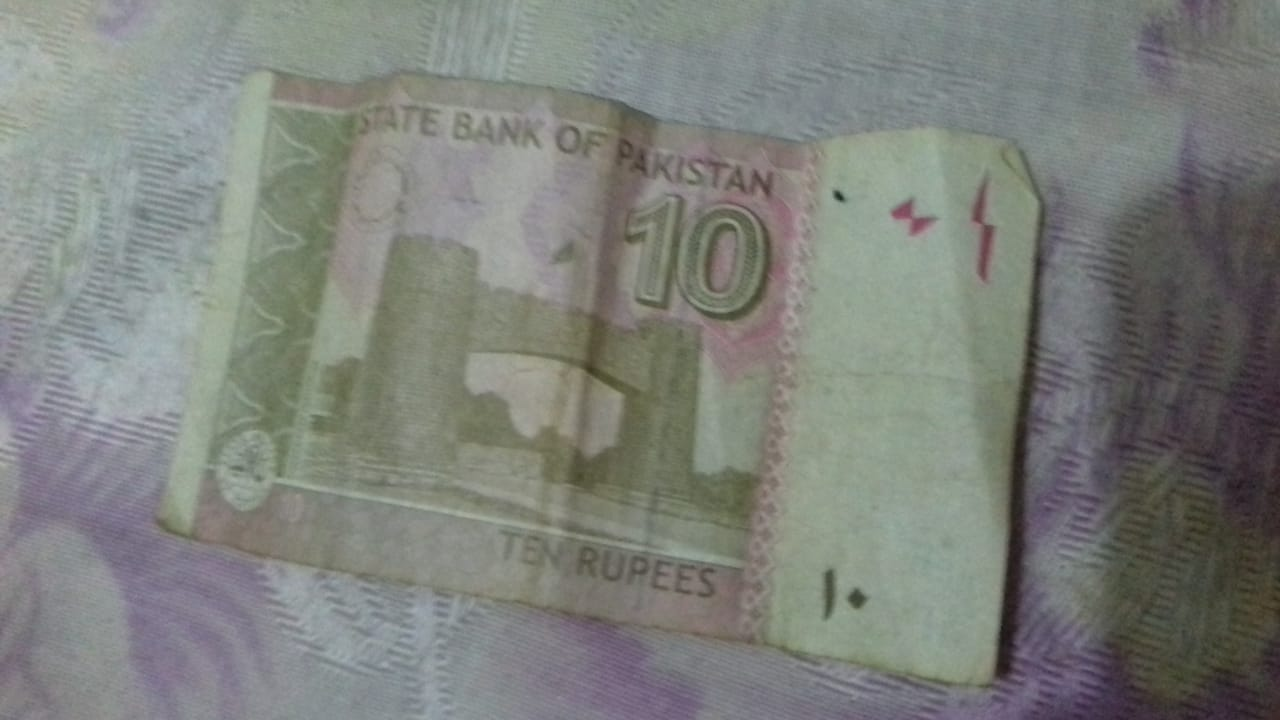10 rupee: (159, 56, 1048, 692)
